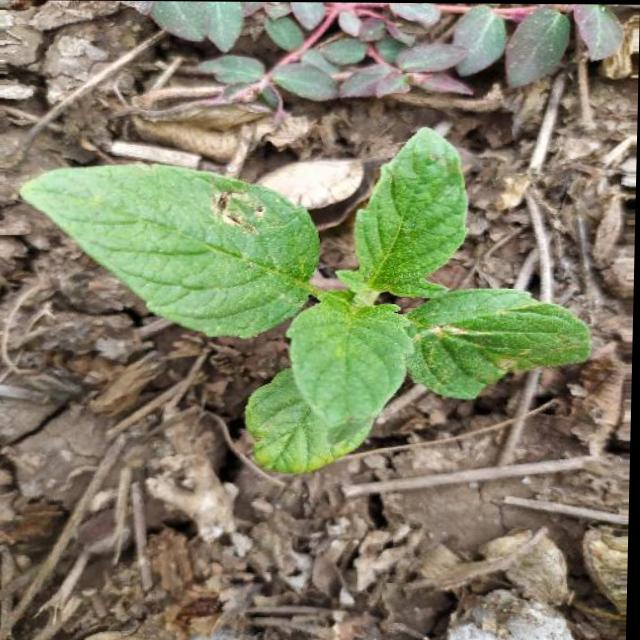crop: (14, 113, 605, 486)
